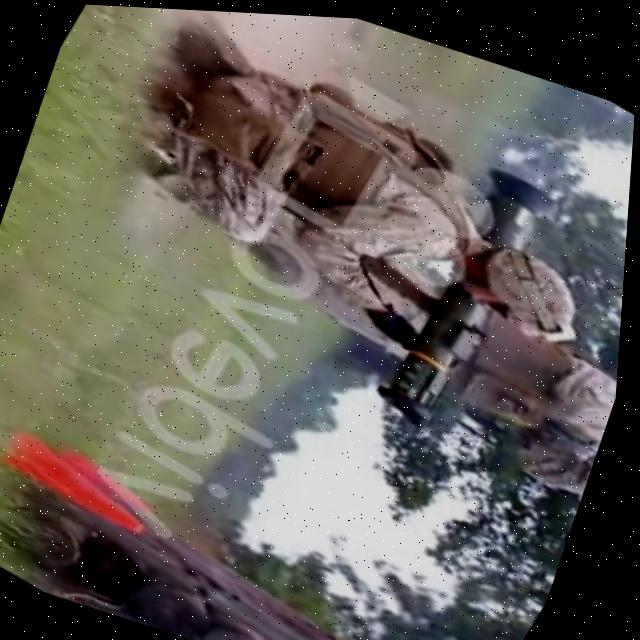rocket: (366, 136, 576, 438)
